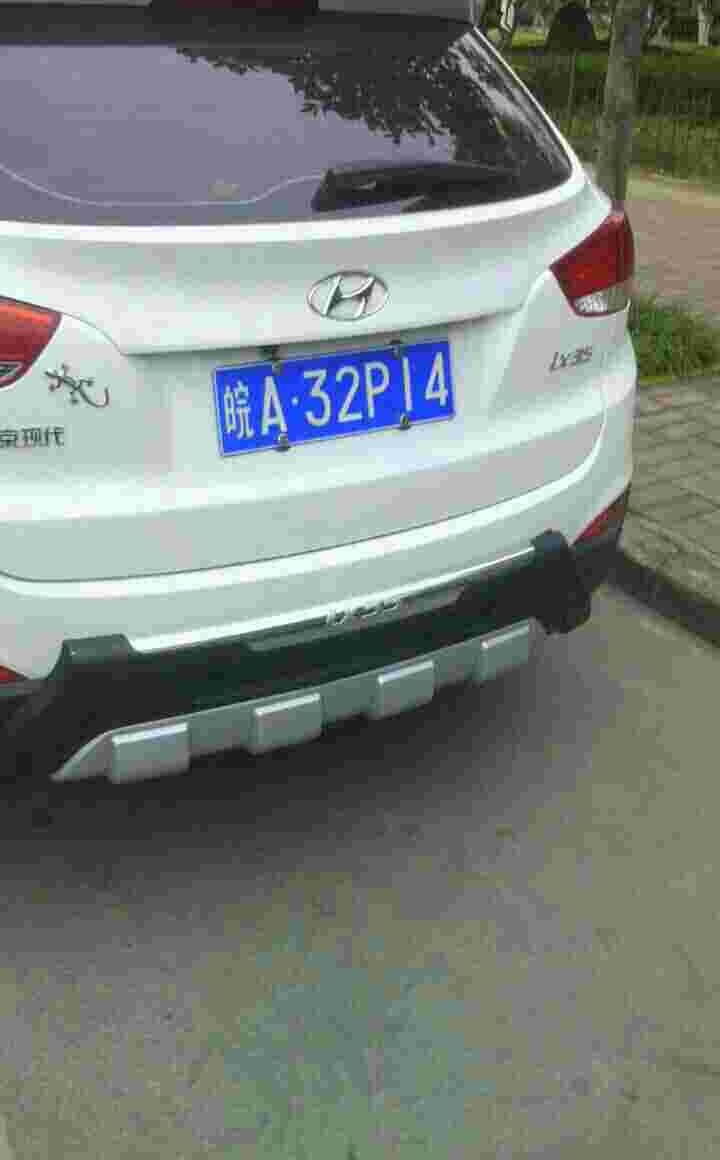license_plate: (212, 343, 458, 463)
